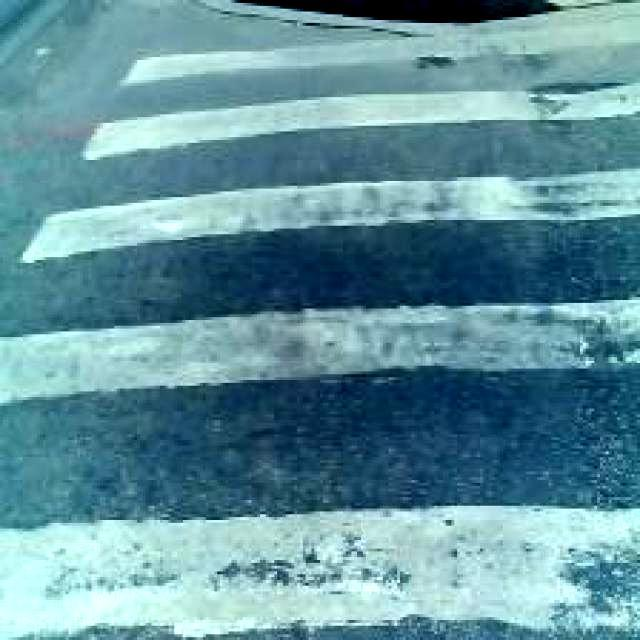crosswalk: (2, 7, 637, 632)
